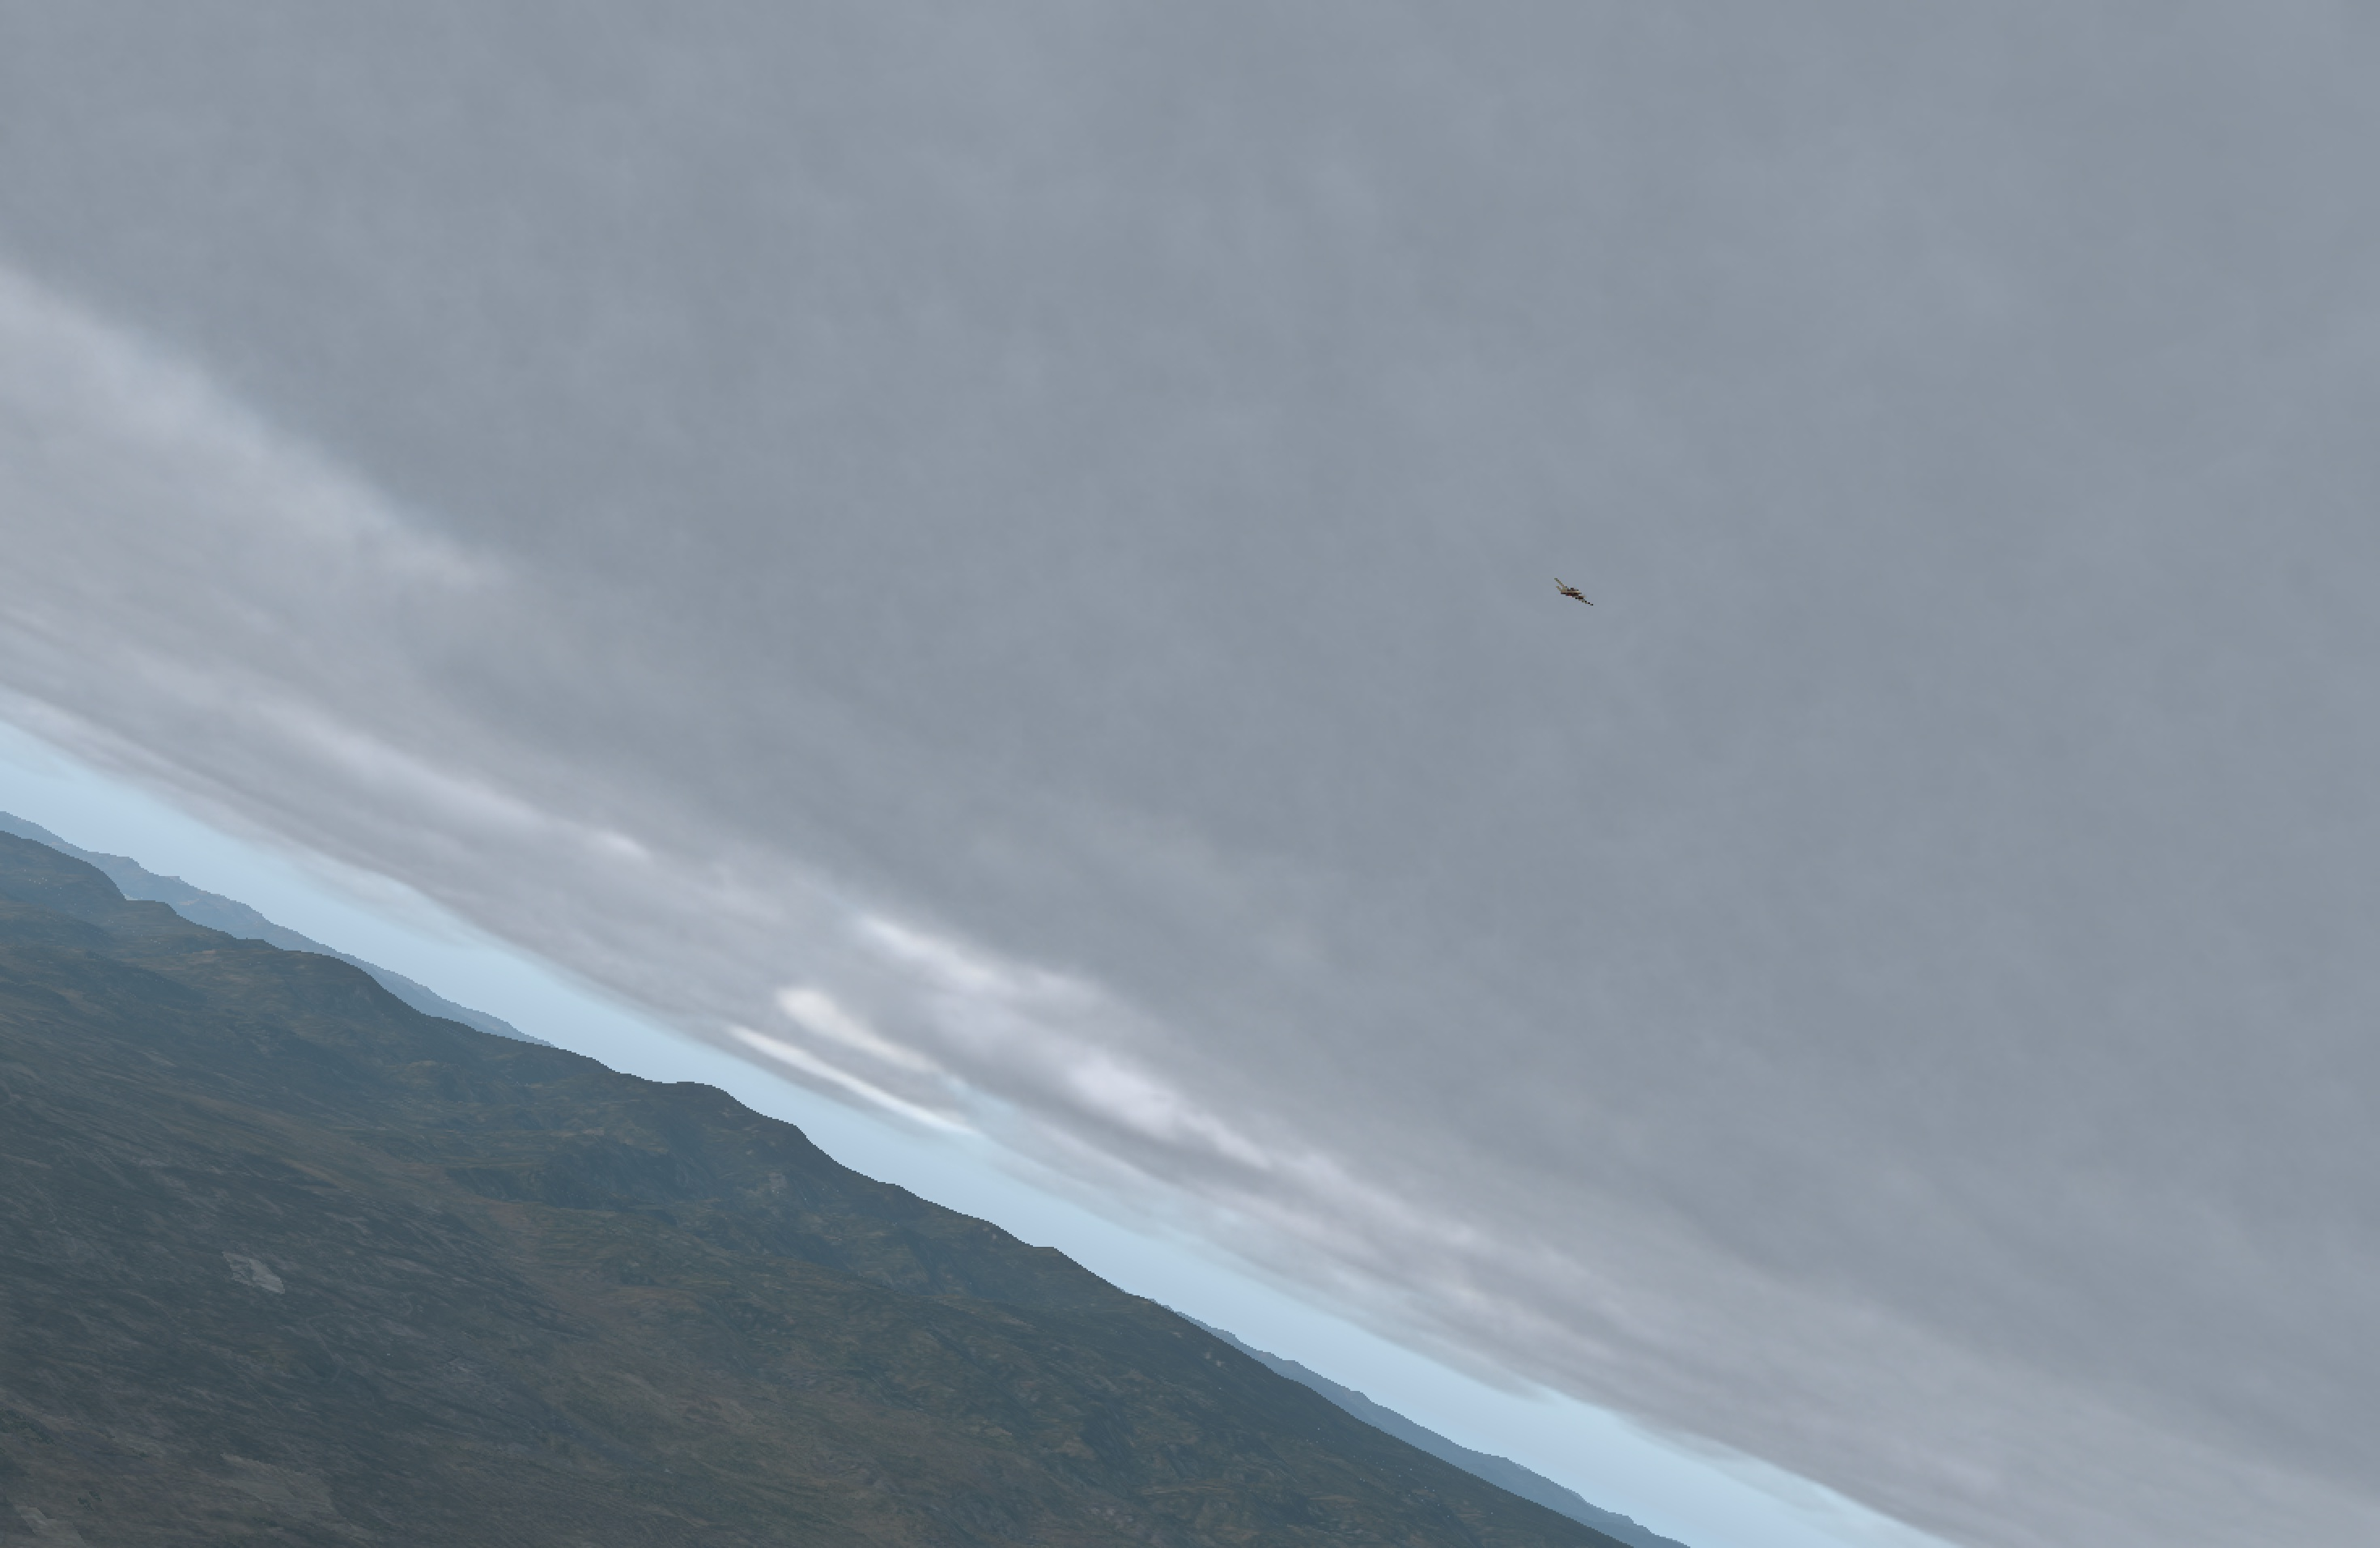aircraft: (1547, 585, 1599, 604)
